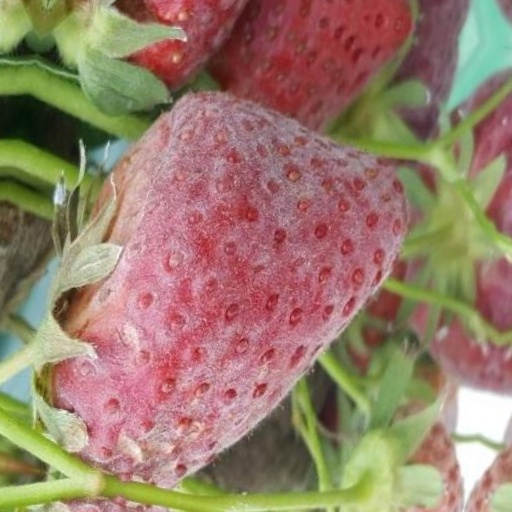Powdery Mildew Fruit: (62, 7, 402, 409), (22, 371, 198, 511)
